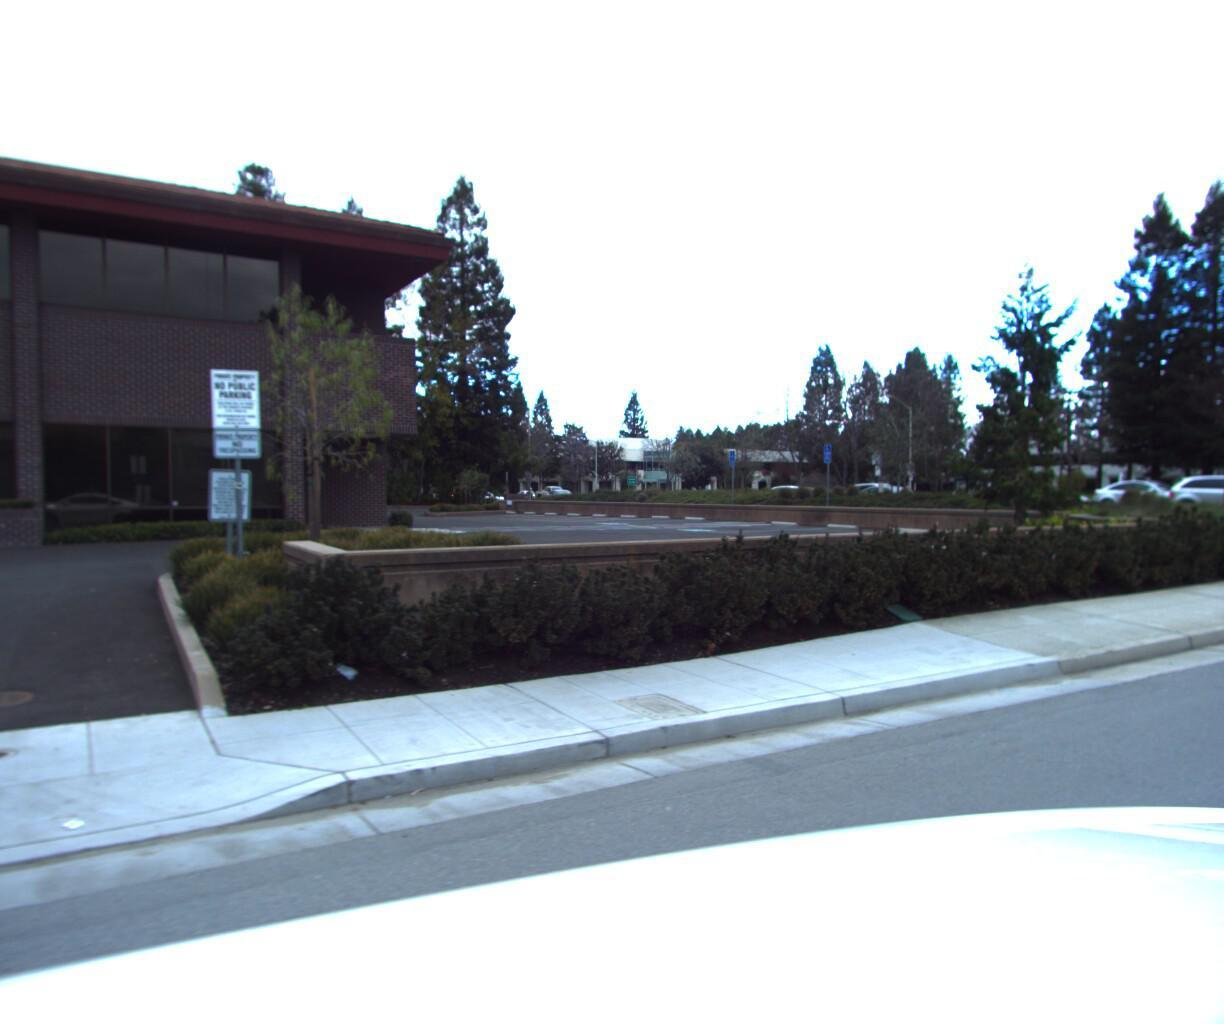car: (1082, 474, 1210, 510), (1164, 464, 1224, 514), (513, 484, 558, 506)
